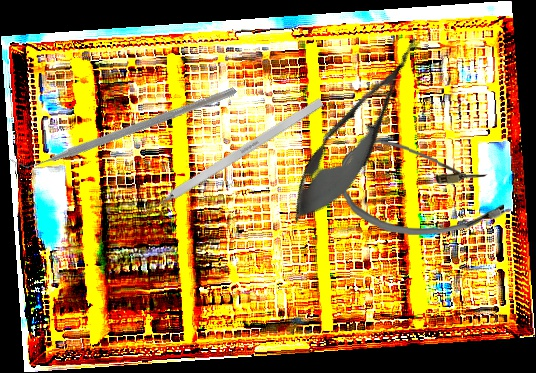Cannula: (339, 138, 507, 238)
Chopper: (8, 6, 238, 244)
Hook Surgical: (136, 97, 325, 221)
Micro Scissor: (273, 21, 442, 239)
